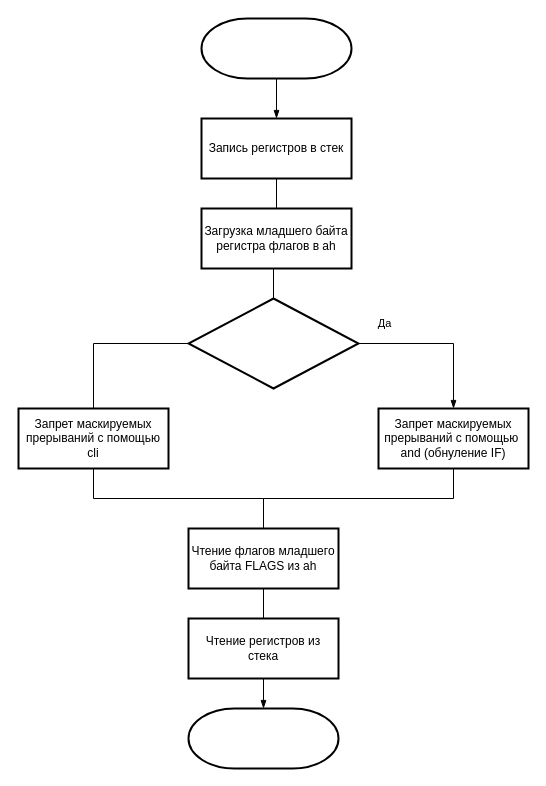
Some shapes in this 546 by 786 pixel diagram are drawn without their labels. The shapes that lost their labels are listed below. From the top down, each one's centre as x and y in pixels, then its label:
(276,48): Начало sub_1
(273,343): DF = 0 и старший бит IOPL = 0
(263,738): Конец sub_1
